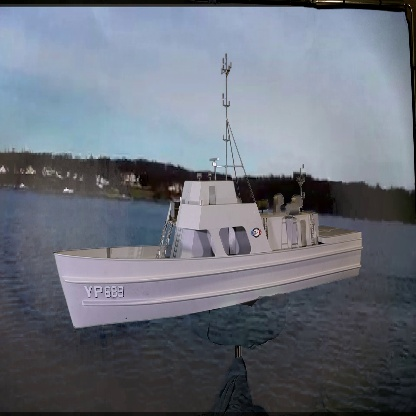YP689: (53, 53, 366, 327)
